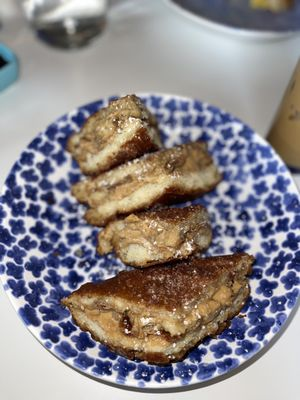pizza: (17, 0, 112, 51)
